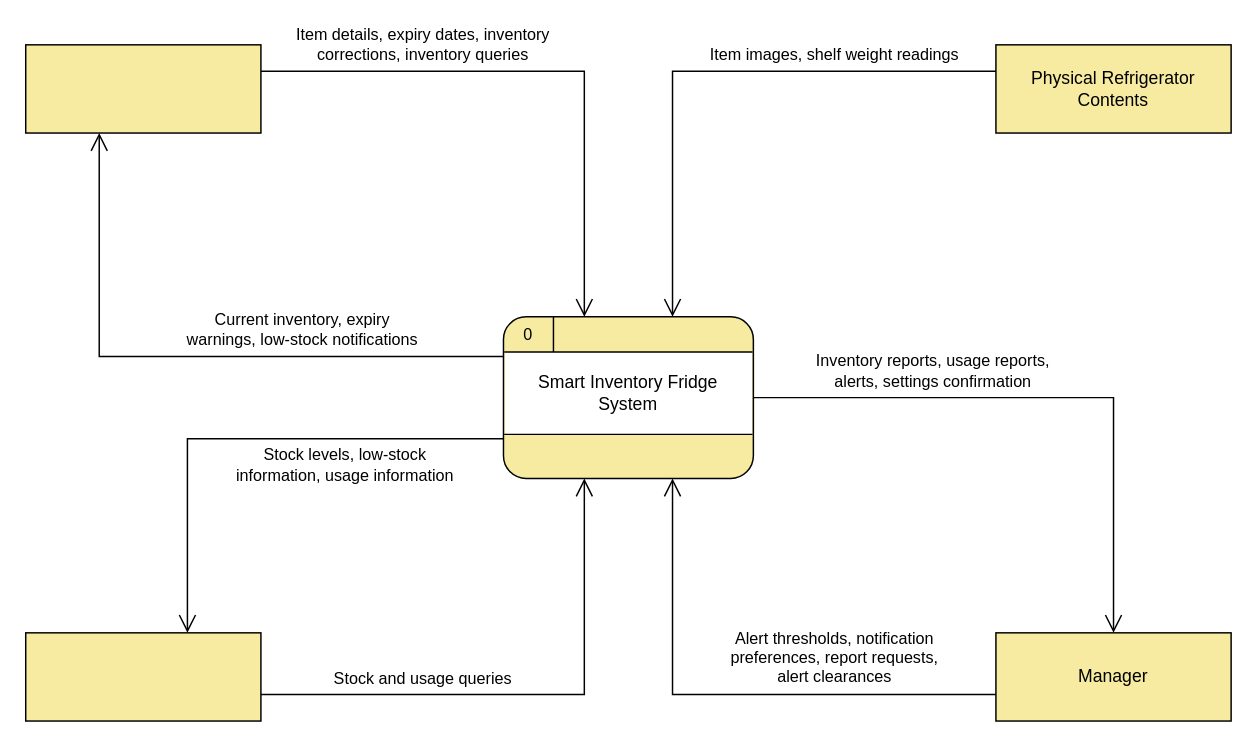
Image size: 1257x747. Some labels were removed from this diagram. The shapes that lost their labels are listed below. From the top down, each one's centre as x and y in pixels, then its label:
point 142,88: Kitchen Inventory Staff
point 142,676: Purchasing Staff
